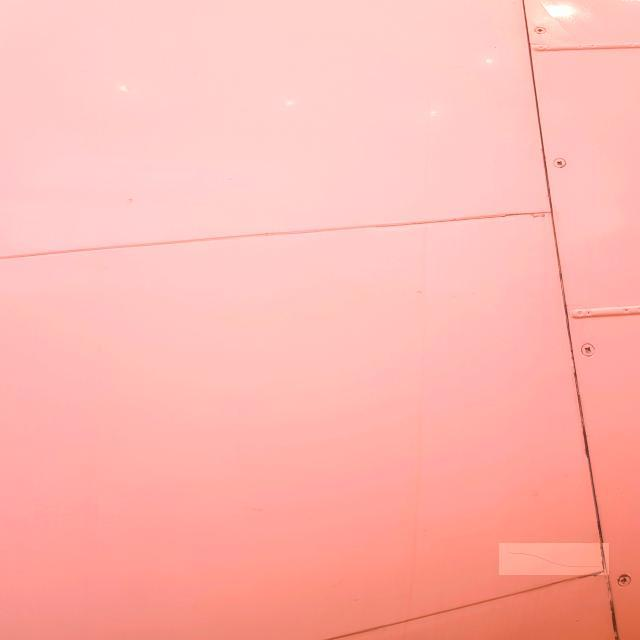crack: (501, 544, 611, 576)
